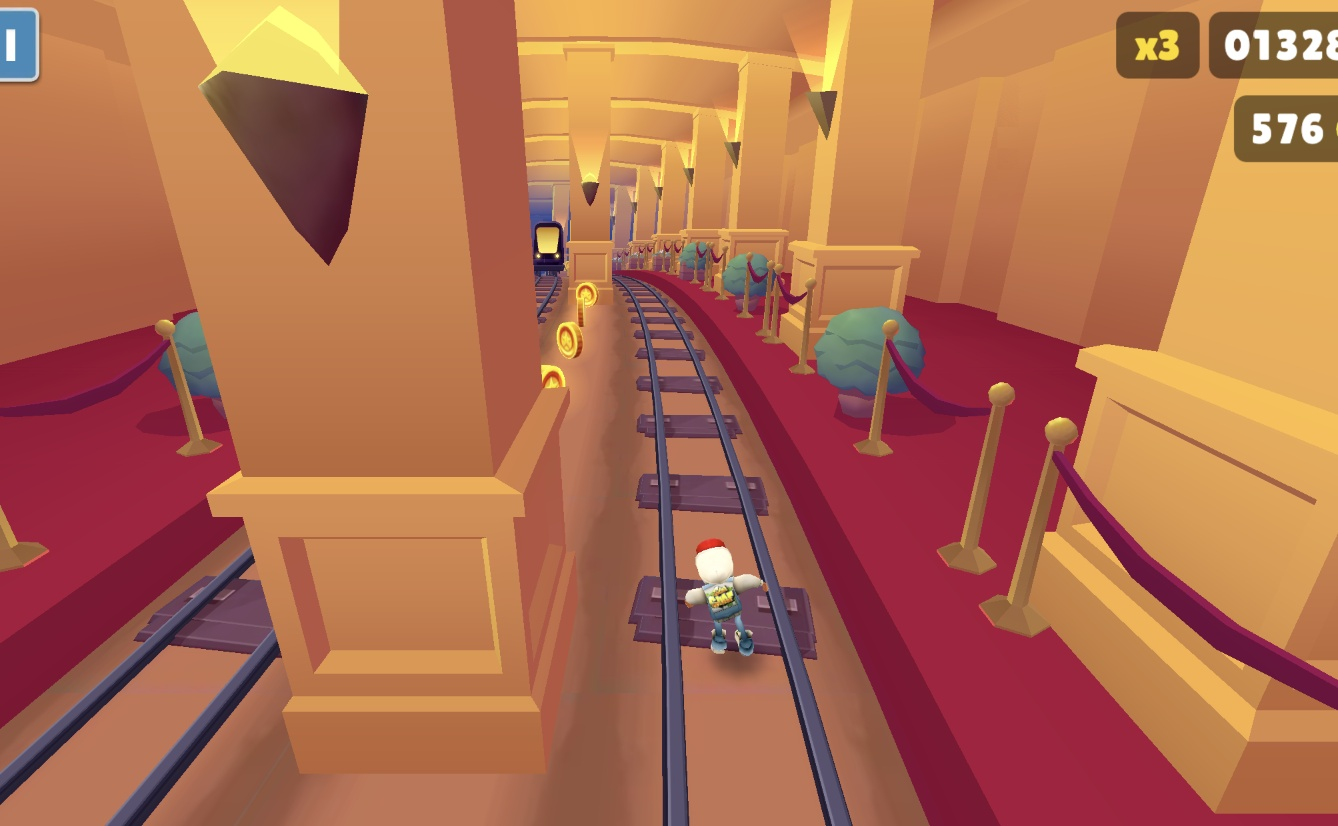pillar: (102, 0, 579, 774), (569, 115, 612, 312)
train: (534, 215, 562, 282)
